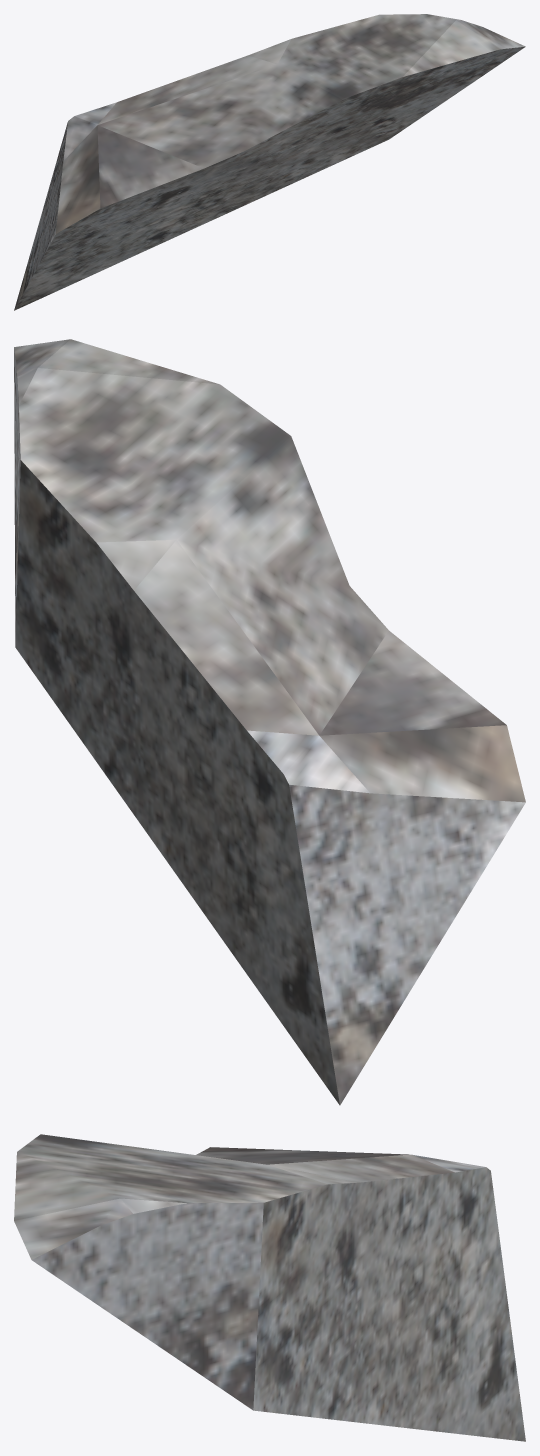
Rendered from Asteroid_Large_001_02_011_03_002.fbx.
3 renders of one model, top to bottom at view 1: azimuth 30°, elevation 25°; view 2: azimuth 150°, elevation 25°; view 3: azimuth 270°, elevation 25°, orthographic. The views are drawn at different scales.
Parts seen in each view (by area): view 1: Asteroid_Large_001_02_011_03_002; view 2: Asteroid_Large_001_02_011_03_002; view 3: Asteroid_Large_001_02_011_03_002.
Boxes of the visible parts, <box> form: Asteroid_Large_001_02_011_03_002: <box>14,14,525,310</box>; Asteroid_Large_001_02_011_03_002: <box>14,339,525,1105</box>; Asteroid_Large_001_02_011_03_002: <box>14,1134,525,1441</box>.
Bounding box in the file's own units: 7.82 × 5.69 × 5.32.
